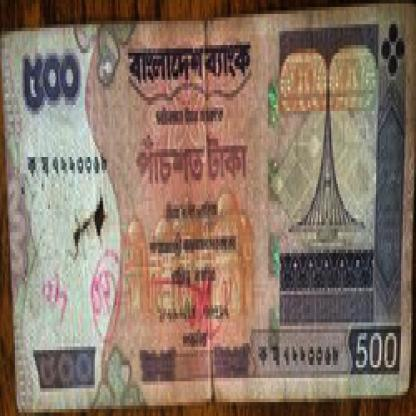500 taka: (127, 128, 260, 208), (10, 52, 88, 114), (349, 330, 411, 388)
currency: (7, 11, 414, 406)
